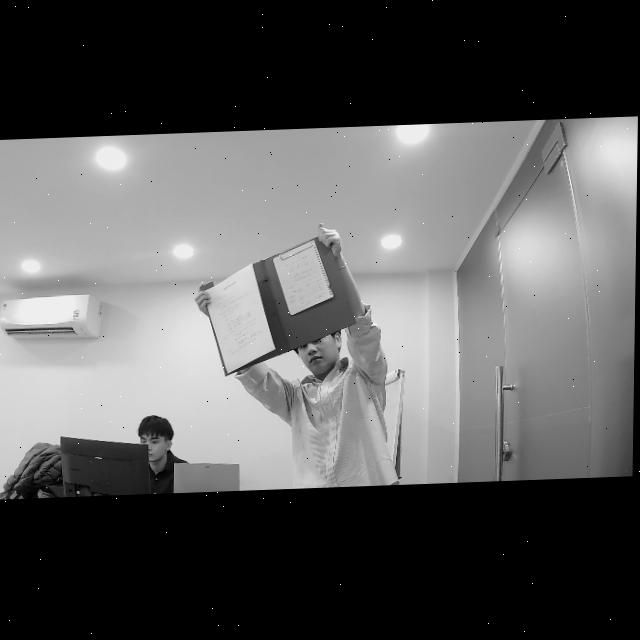document: (202, 263, 276, 374), (272, 239, 334, 315)
face: (140, 413, 176, 460)
